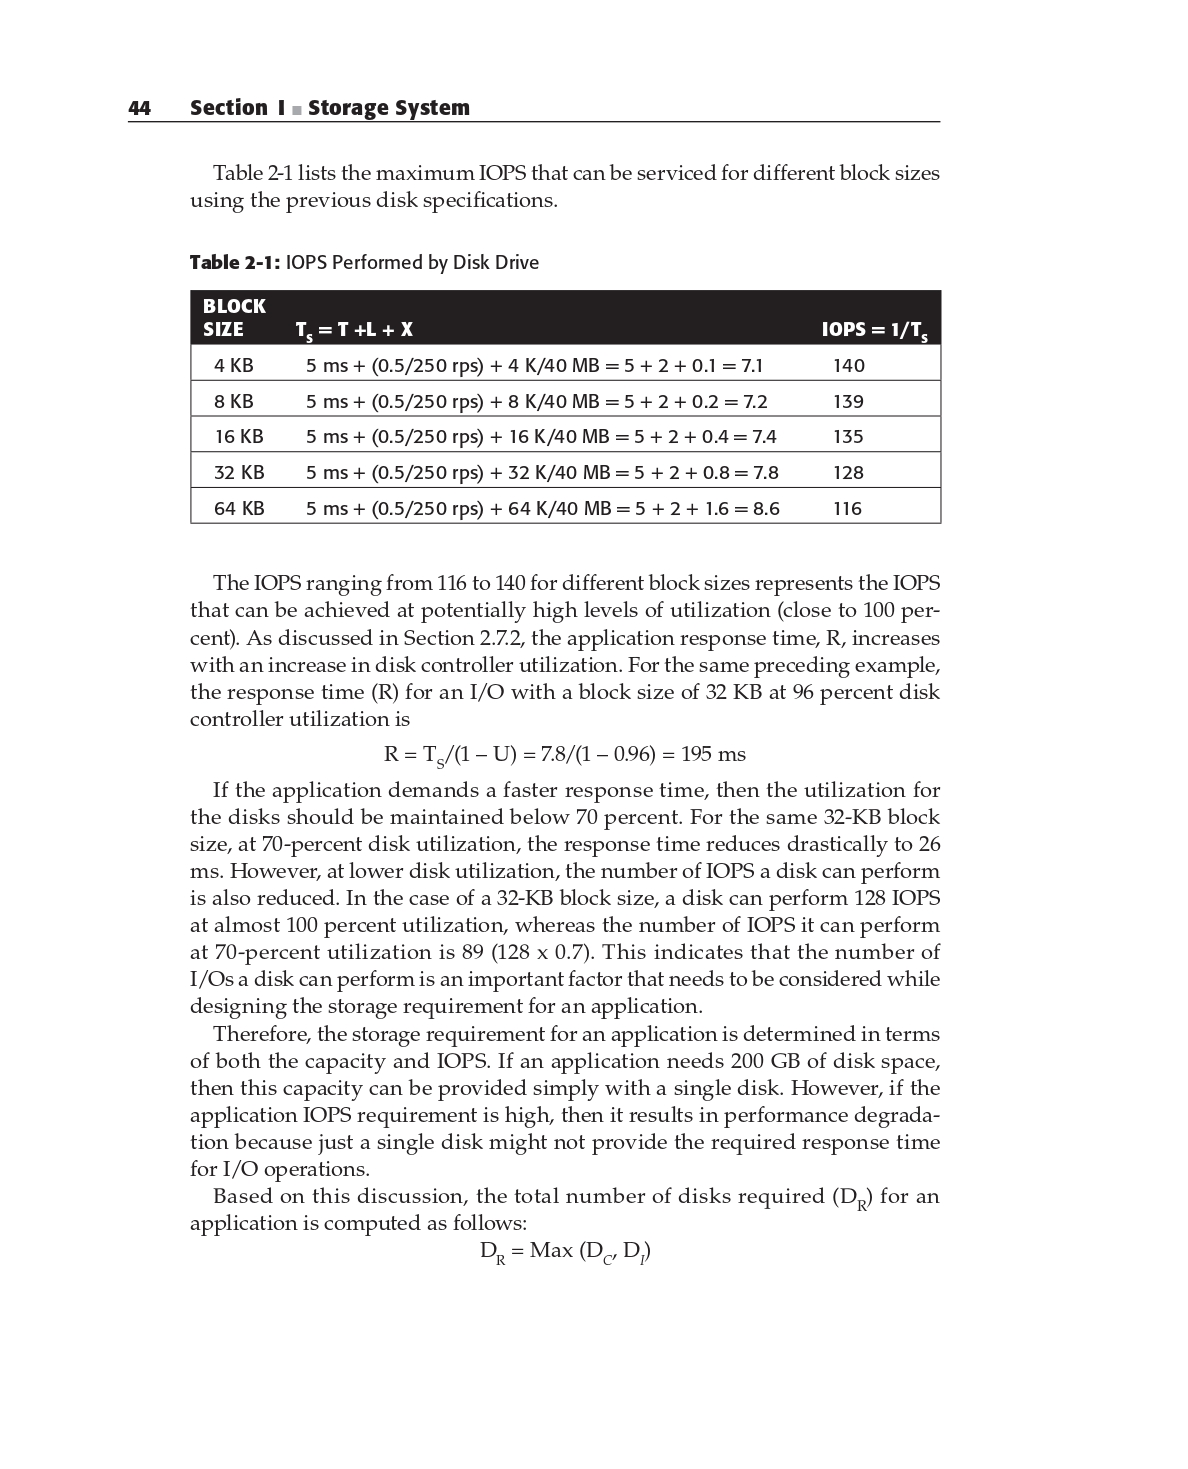Paragraph: (190, 765, 943, 1019), (187, 551, 947, 736), (187, 1019, 947, 1177), (184, 1179, 943, 1276), (184, 149, 958, 219), (792, 307, 943, 348), (193, 255, 555, 271), (292, 315, 435, 348), (187, 295, 263, 344)
